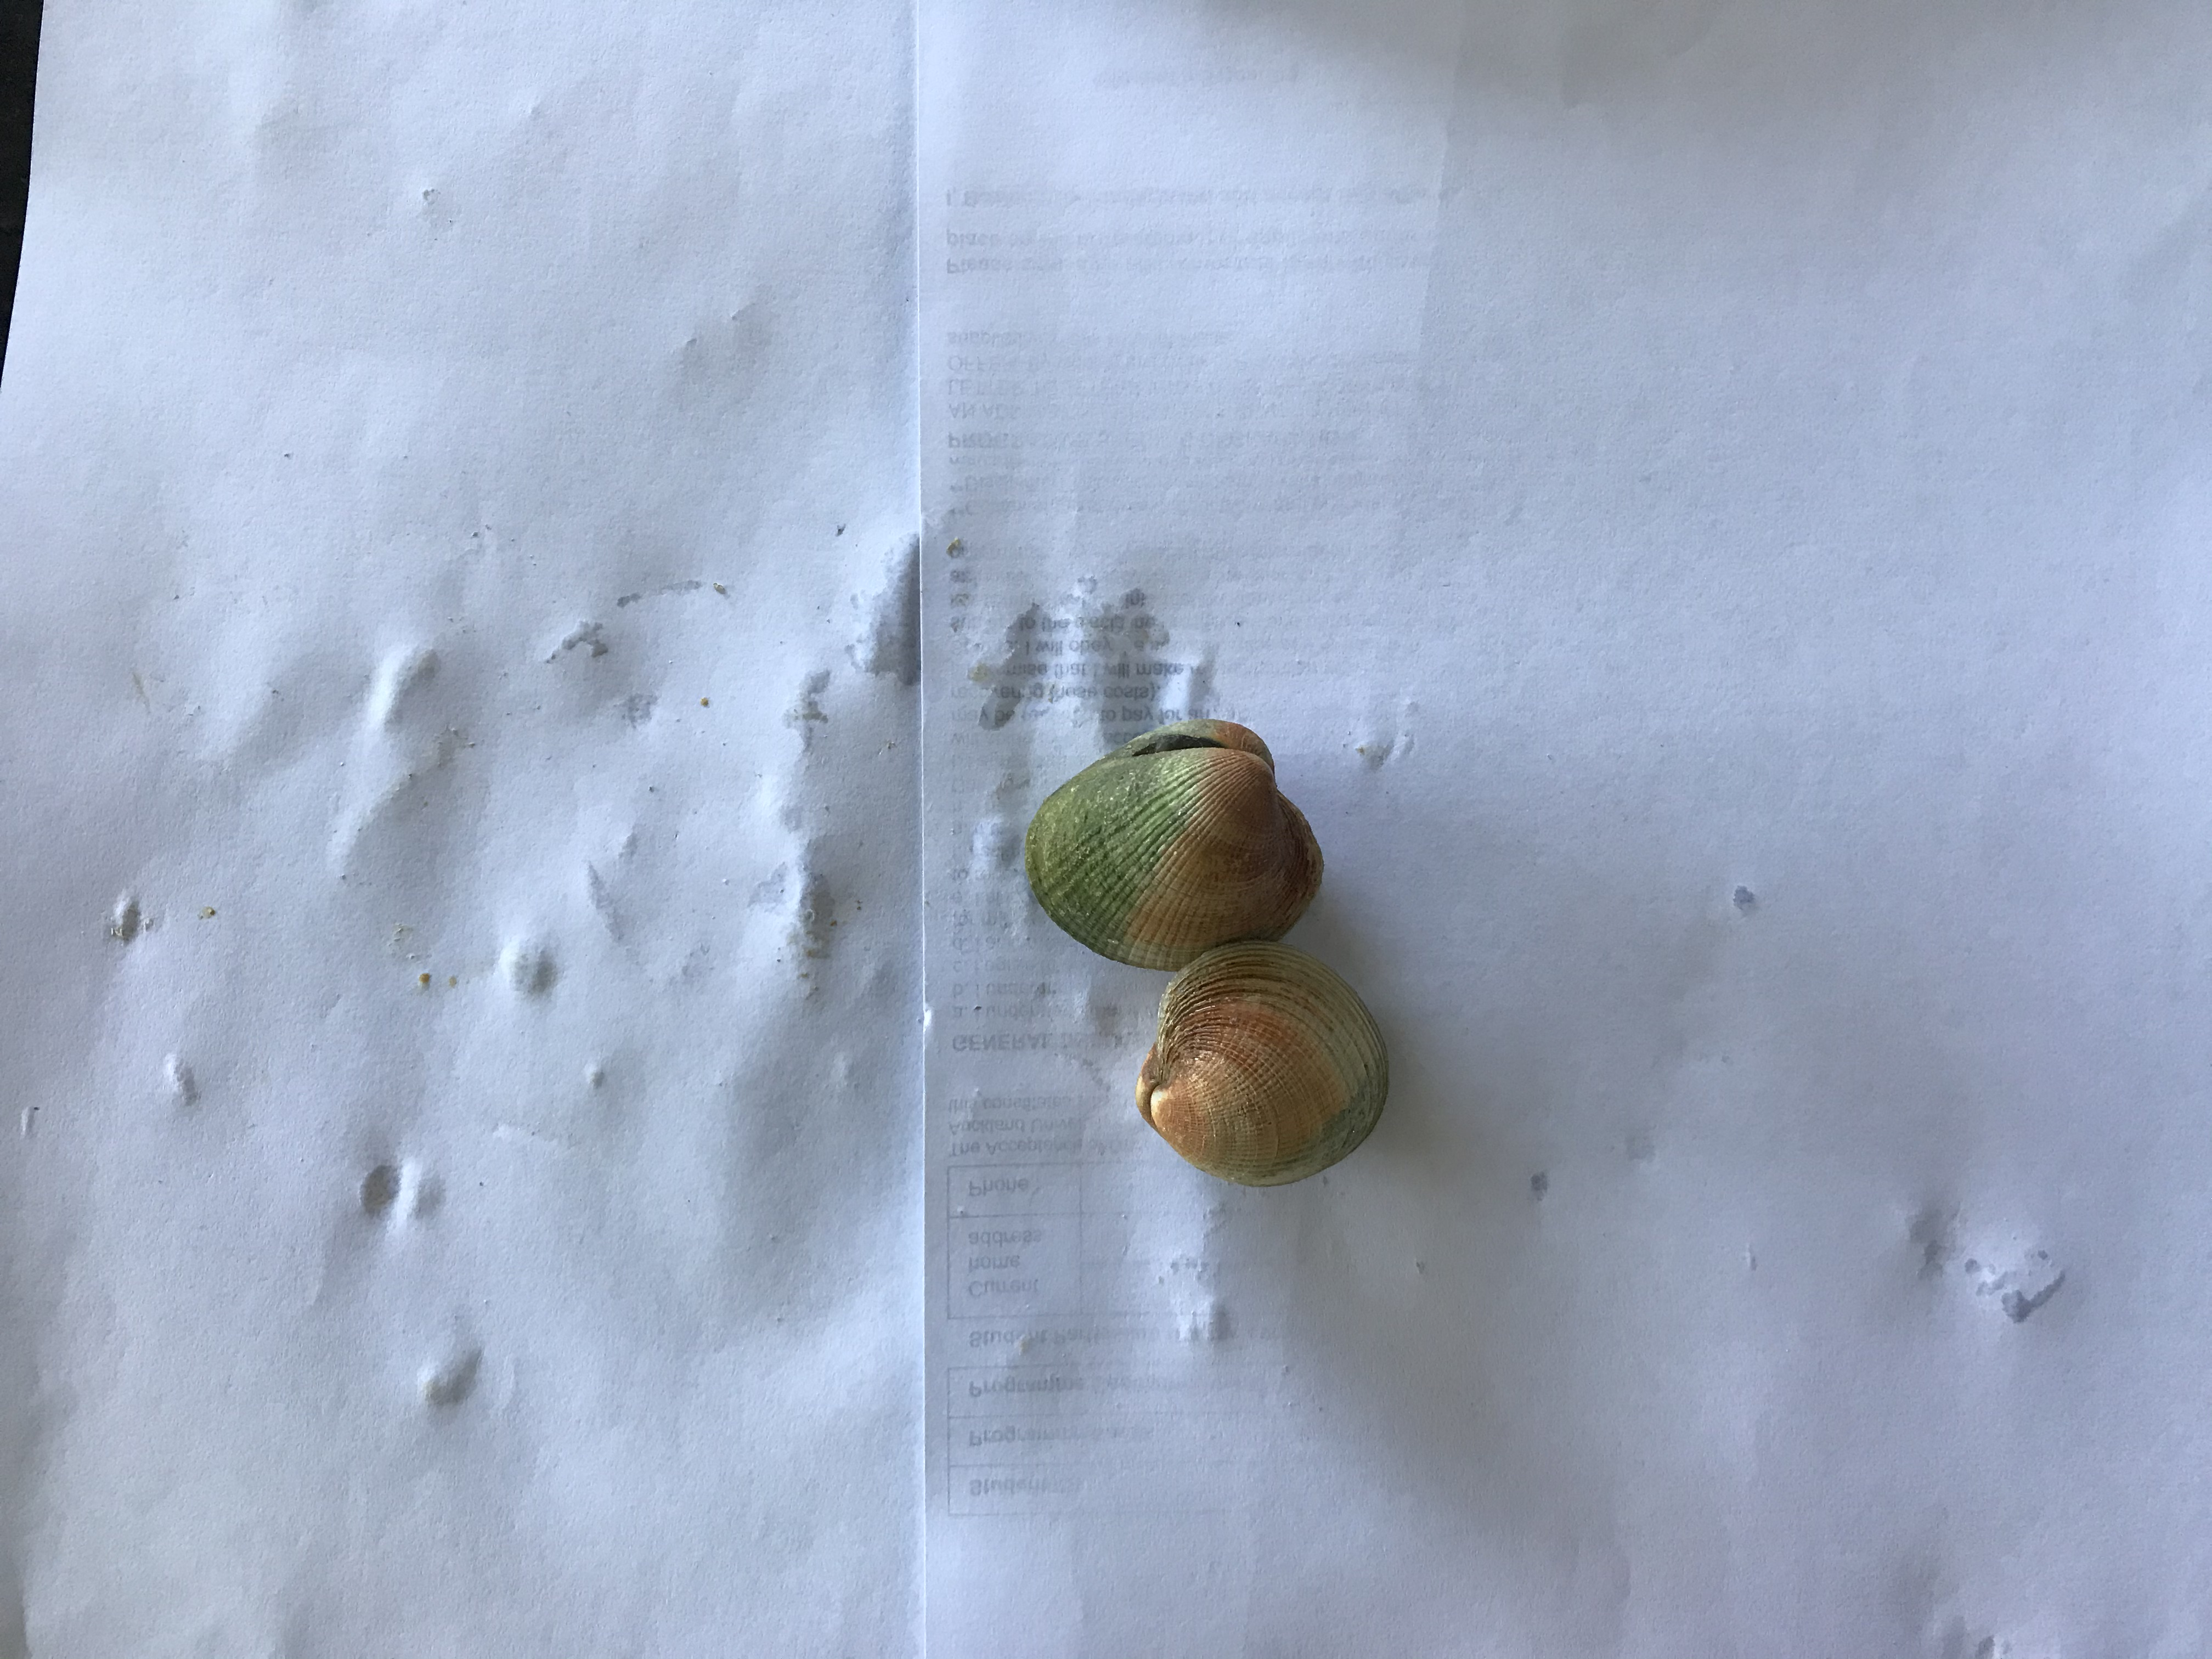cockle: (1019, 709, 1327, 962), (1127, 934, 1400, 1199)
